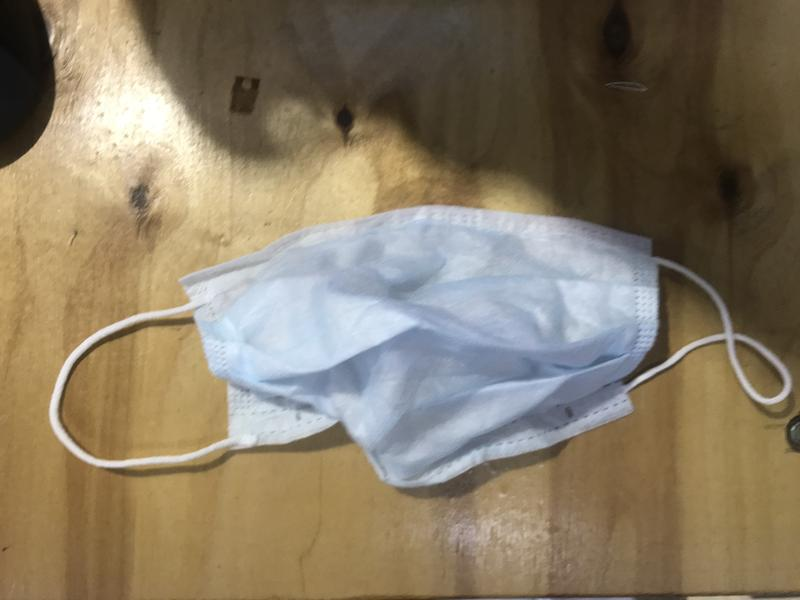medical_mask: (50, 206, 791, 490)
